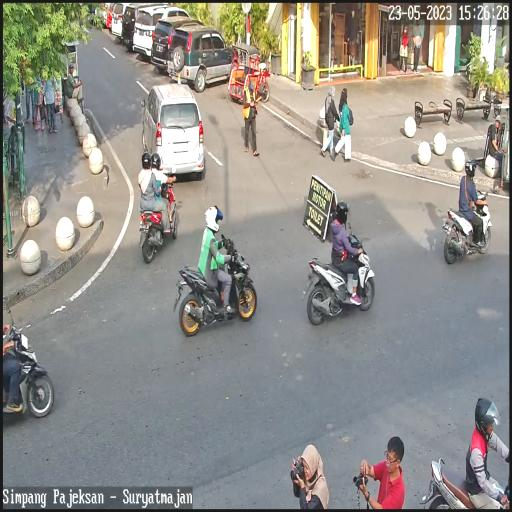mobil: (137, 81, 208, 186), (168, 26, 244, 87), (154, 13, 216, 83), (136, 1, 194, 64)
motor: (177, 228, 259, 336), (304, 224, 377, 320), (442, 187, 492, 265), (139, 175, 177, 265)
